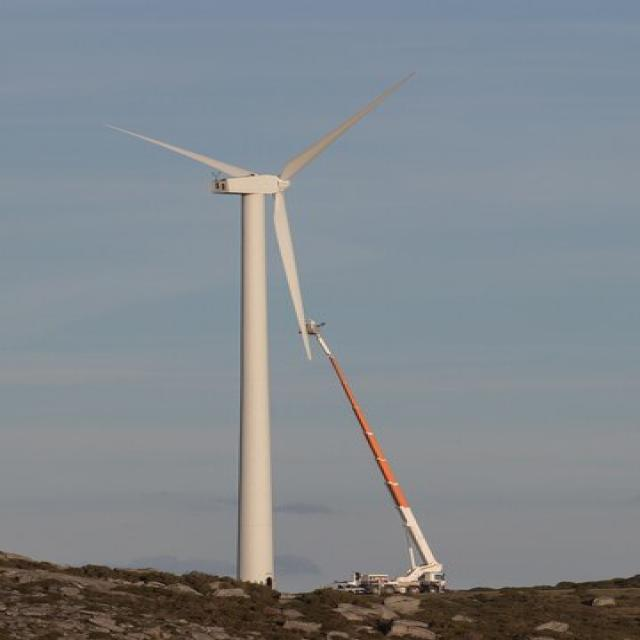solid-blade: (279, 72, 413, 179), (105, 126, 255, 177), (274, 191, 311, 359)
wind-turbine: (107, 72, 413, 586)
